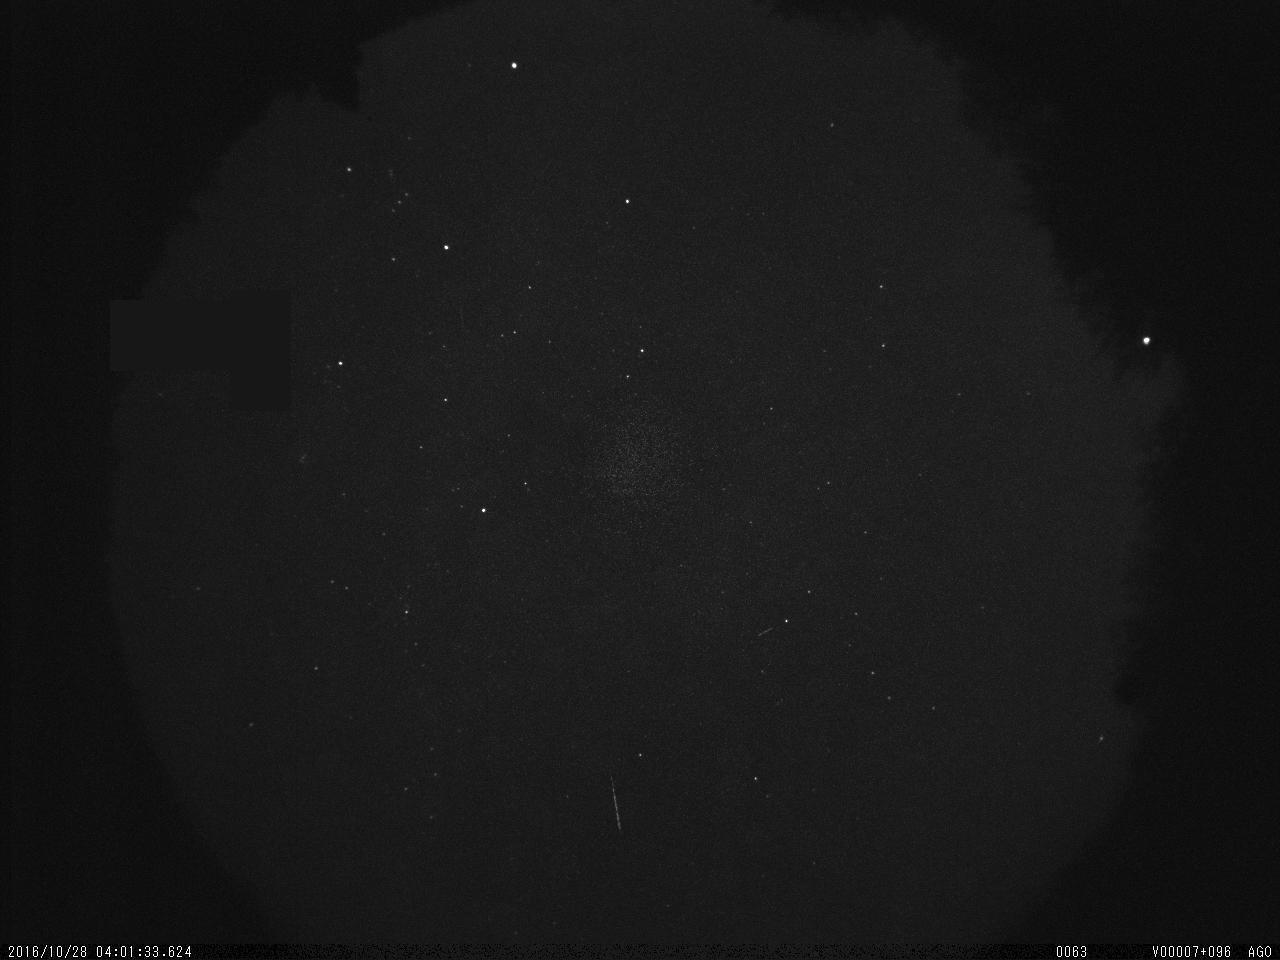meteor: (584, 756, 635, 846)
